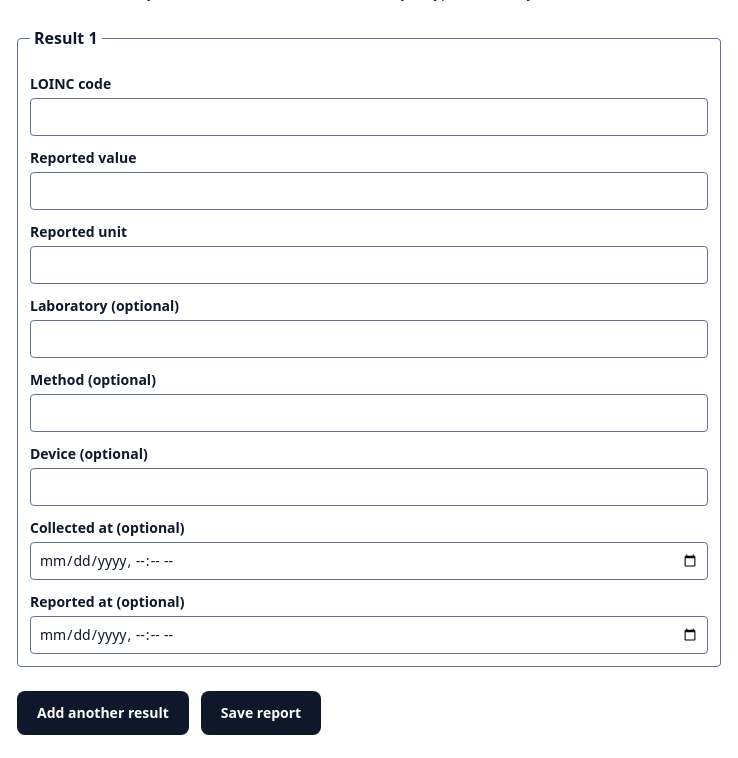
Test: removing a row keeps focus in the form and announces the removal
(page scrolled)
Step 1. Click the button "Add another result" → click(103, 713), box top-left (17, 691), bottom-right (189, 735)
(page scrolled)
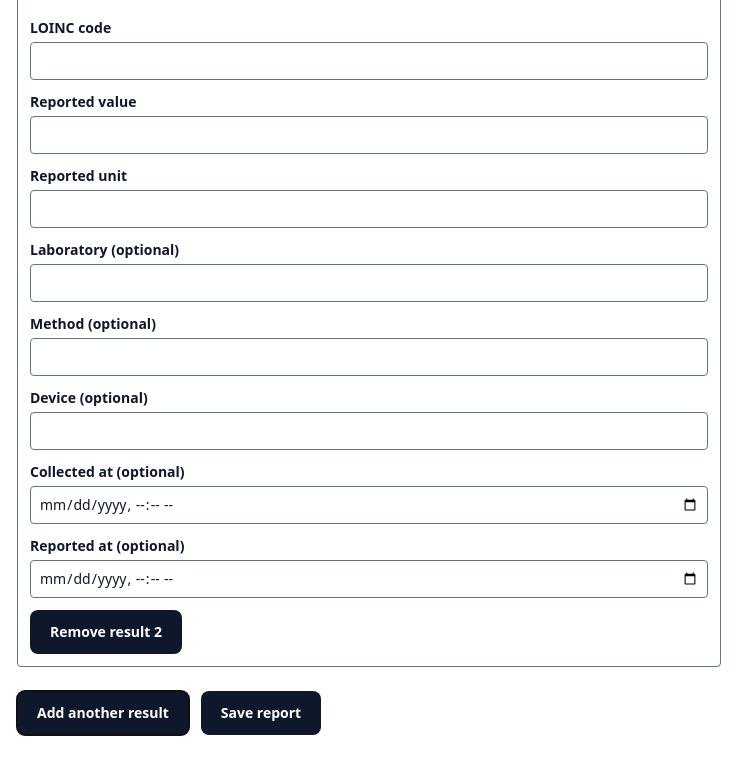
Step 2. Click the button "Add another result" → click(103, 713), box top-left (17, 691), bottom-right (189, 735)
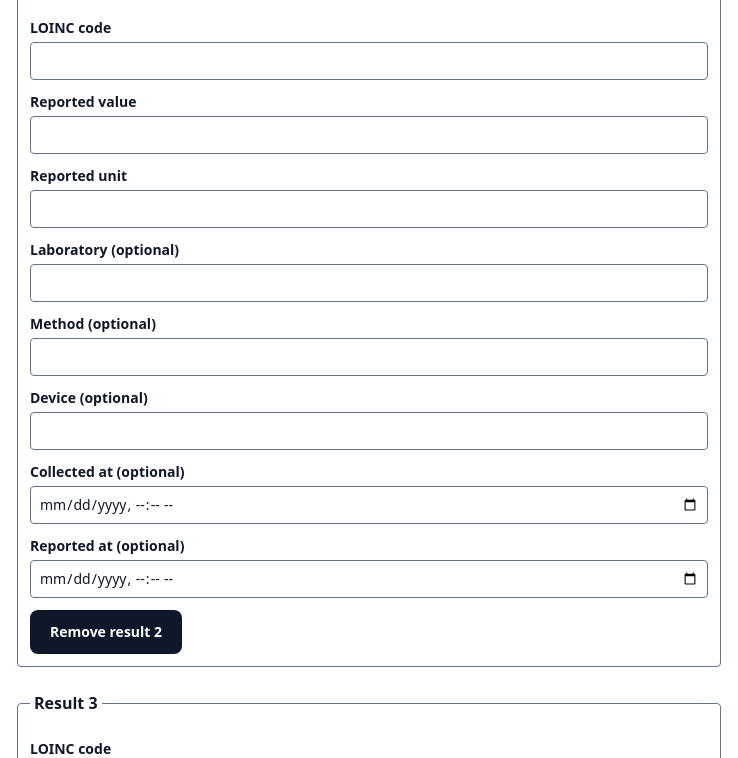
Step 3. Click the button "Remove result 2" → click(106, 632), box top-left (30, 610), bottom-right (182, 654)
(page scrolled)
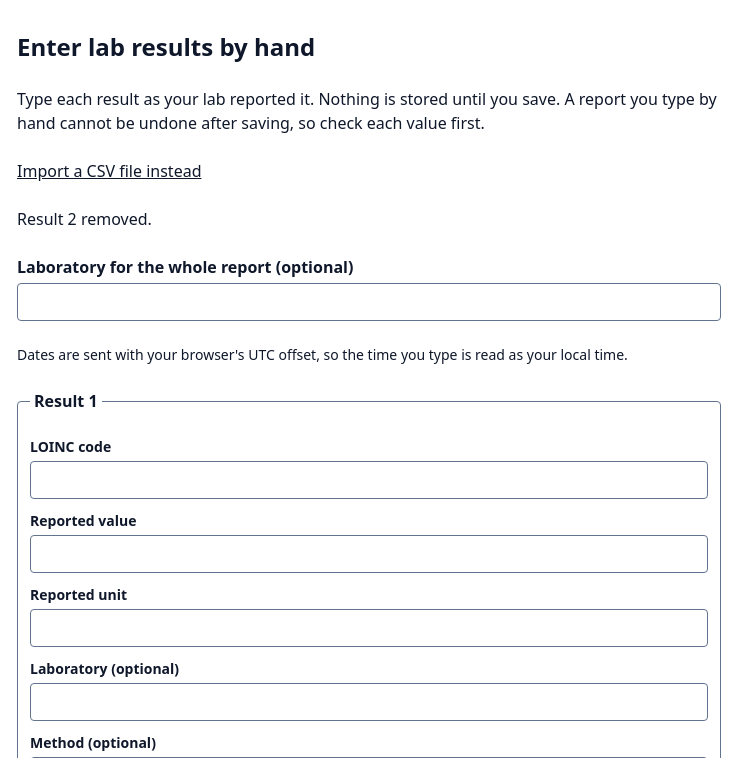
Result: the message reads "Result 2 removed." at top-left (17, 208), bottom-right (152, 230)
